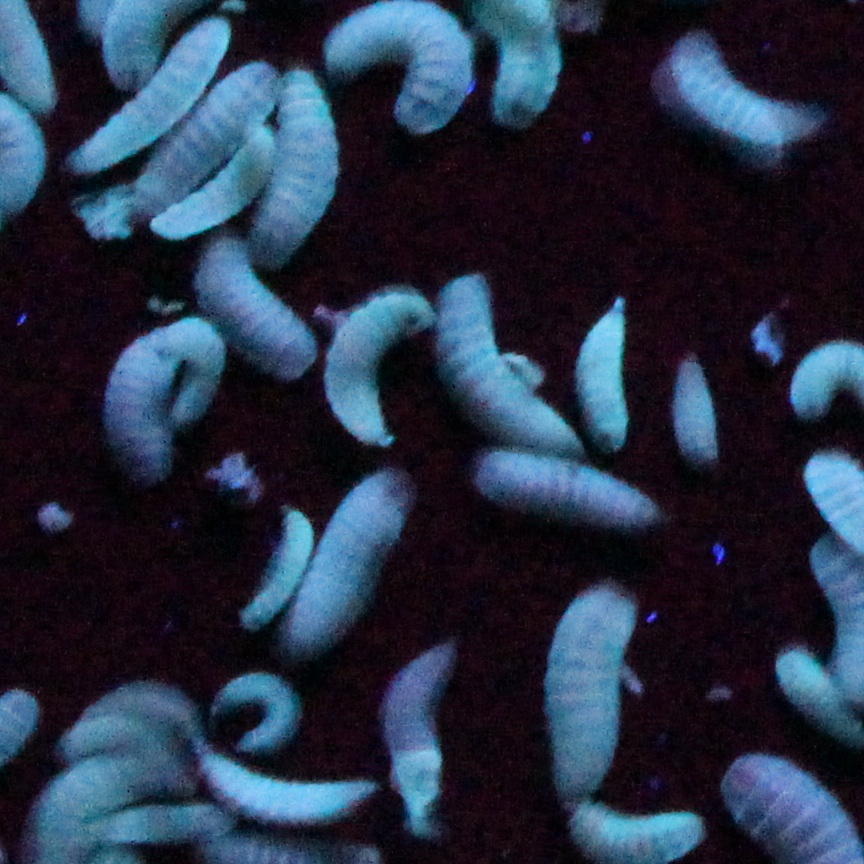larve: (99, 64, 282, 237), (438, 269, 575, 457), (72, 23, 233, 167), (289, 471, 416, 645), (545, 579, 637, 800), (368, 639, 461, 842), (675, 32, 826, 147), (262, 69, 343, 279), (192, 237, 316, 374), (326, 293, 433, 442), (479, 452, 660, 532), (192, 751, 374, 822), (160, 132, 275, 240), (109, 325, 182, 476), (243, 510, 314, 640), (572, 303, 628, 447), (86, 679, 203, 746), (77, 799, 228, 844), (670, 362, 728, 469), (216, 675, 301, 748), (177, 318, 221, 428)
